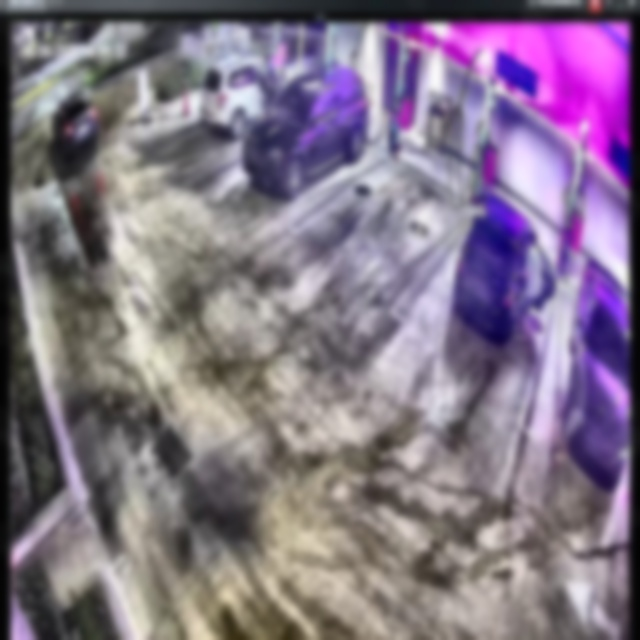Car: (243, 60, 370, 196), (455, 191, 553, 343)
